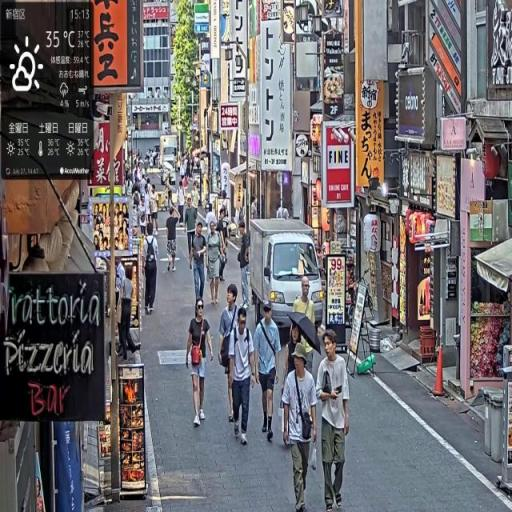person: (317, 328, 352, 512), (282, 341, 319, 512), (254, 298, 283, 443), (229, 308, 258, 448), (186, 300, 215, 430), (219, 282, 244, 428), (206, 218, 226, 311), (191, 220, 211, 312), (141, 223, 160, 317), (237, 219, 252, 312), (184, 195, 199, 266), (167, 207, 180, 273)
